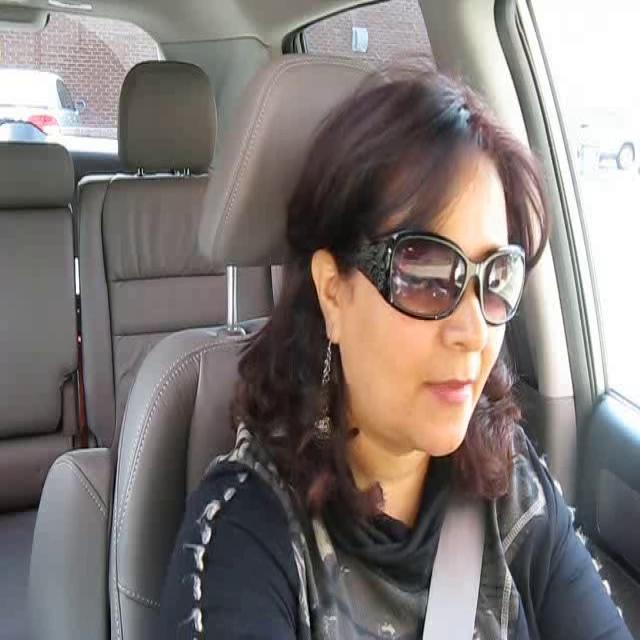close: (417, 369, 482, 413)
